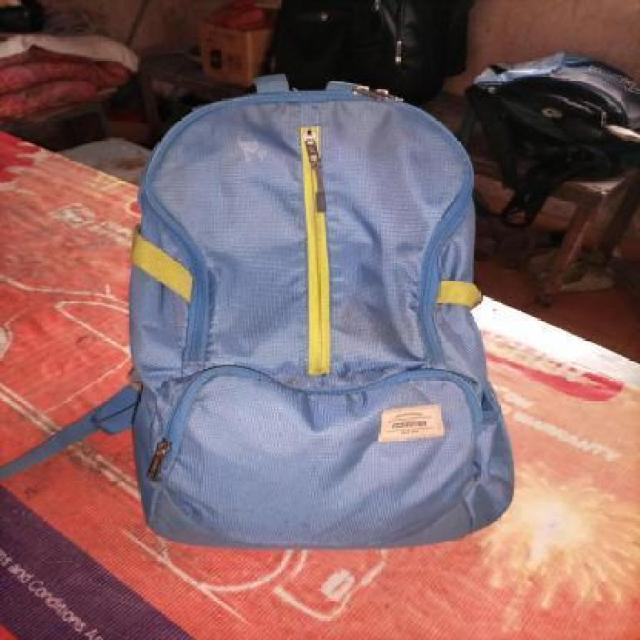backpack: (124, 64, 518, 554)
